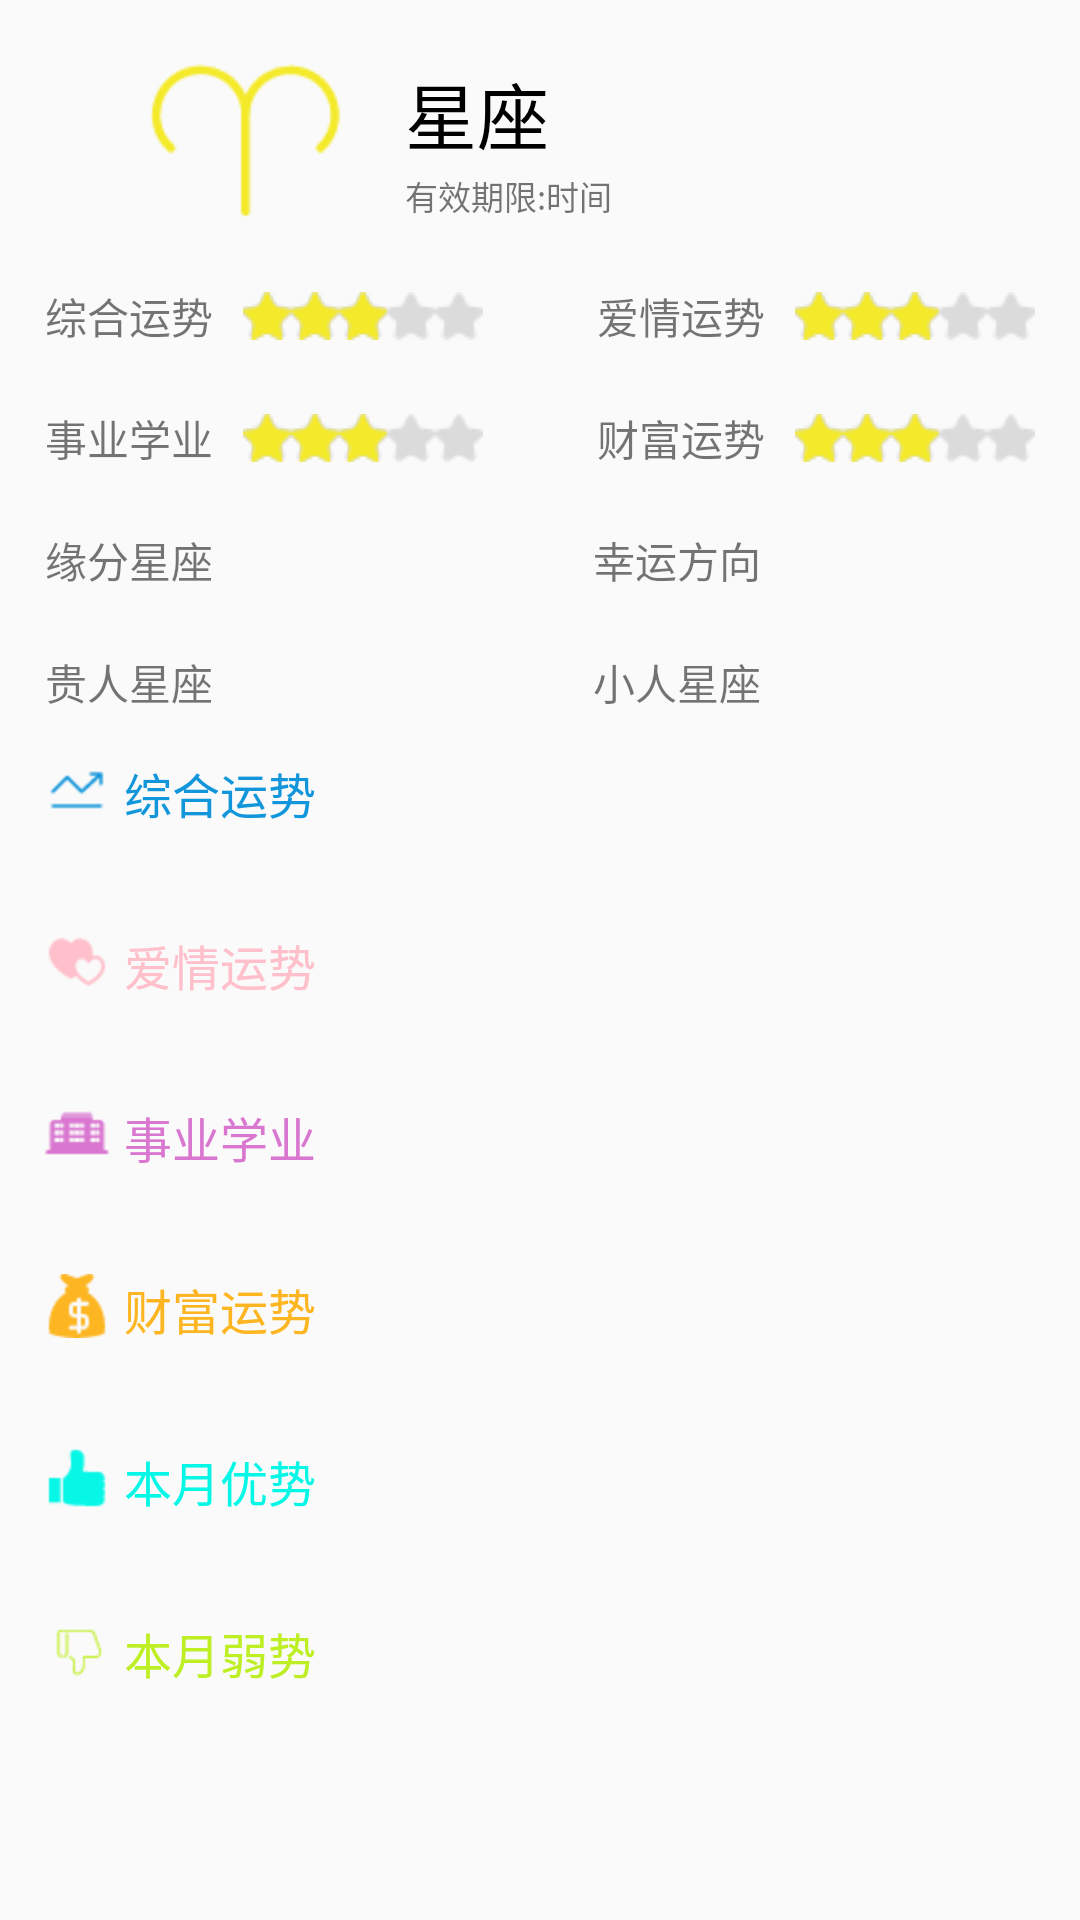

Screen size 1080*1920. Icon name, then its center in pixels as point (x, y):
baiyang: point (245, 140)
general: point (77, 790)
love: point (77, 962)
money: point (77, 1306)
month advantage: point (77, 1478)
month weakness: point (79, 1652)
work: point (77, 1133)
